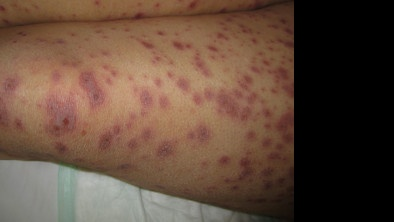SJS-TEN: (0, 0, 296, 222), (0, 0, 291, 31)
